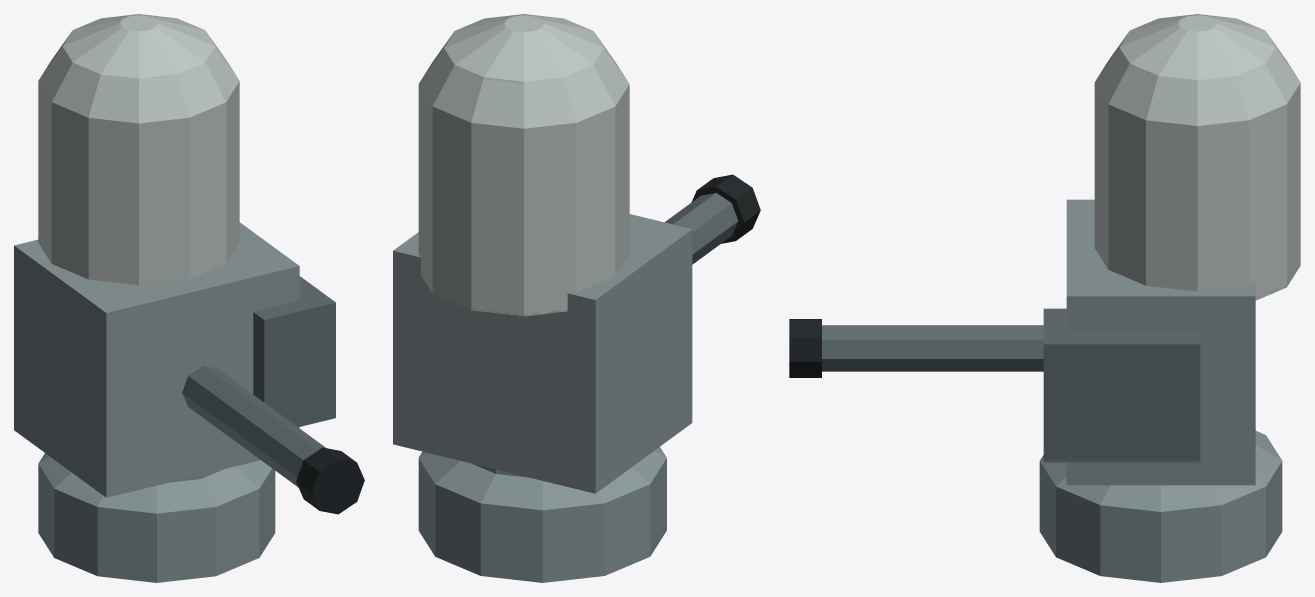
File: mount_spruance_phalanx.glb
3 renders of one model, left to right at view 1: azimuth 30°, elevation 25°; view 2: azimuth 150°, elevation 25°; view 3: azimuth 270°, elevation 25°, orthographic. The views are drawn at different scales.
Parts seen in each view (by area): view 1: MESH_SPRUANCE_TEMPLATE_phalanx; view 2: MESH_SPRUANCE_TEMPLATE_phalanx; view 3: MESH_SPRUANCE_TEMPLATE_phalanx.
Boxes of the visible parts, x1,y1,x2,y2 form: MESH_SPRUANCE_TEMPLATE_phalanx: [14, 14, 364, 582]; MESH_SPRUANCE_TEMPLATE_phalanx: [393, 14, 760, 582]; MESH_SPRUANCE_TEMPLATE_phalanx: [789, 14, 1300, 582].
Size of the model in its own units: 1.42 by 3.01 by 2.74.
Materials: 1 (1 with a texture image).
